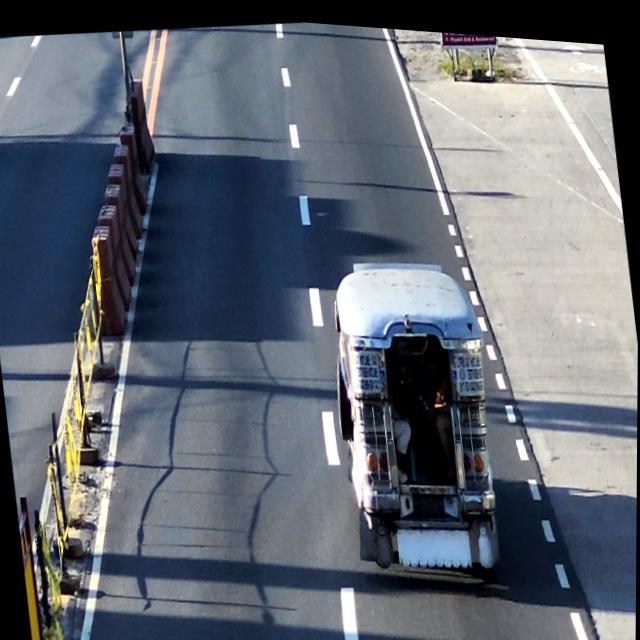Jeep: (324, 237, 508, 586)
